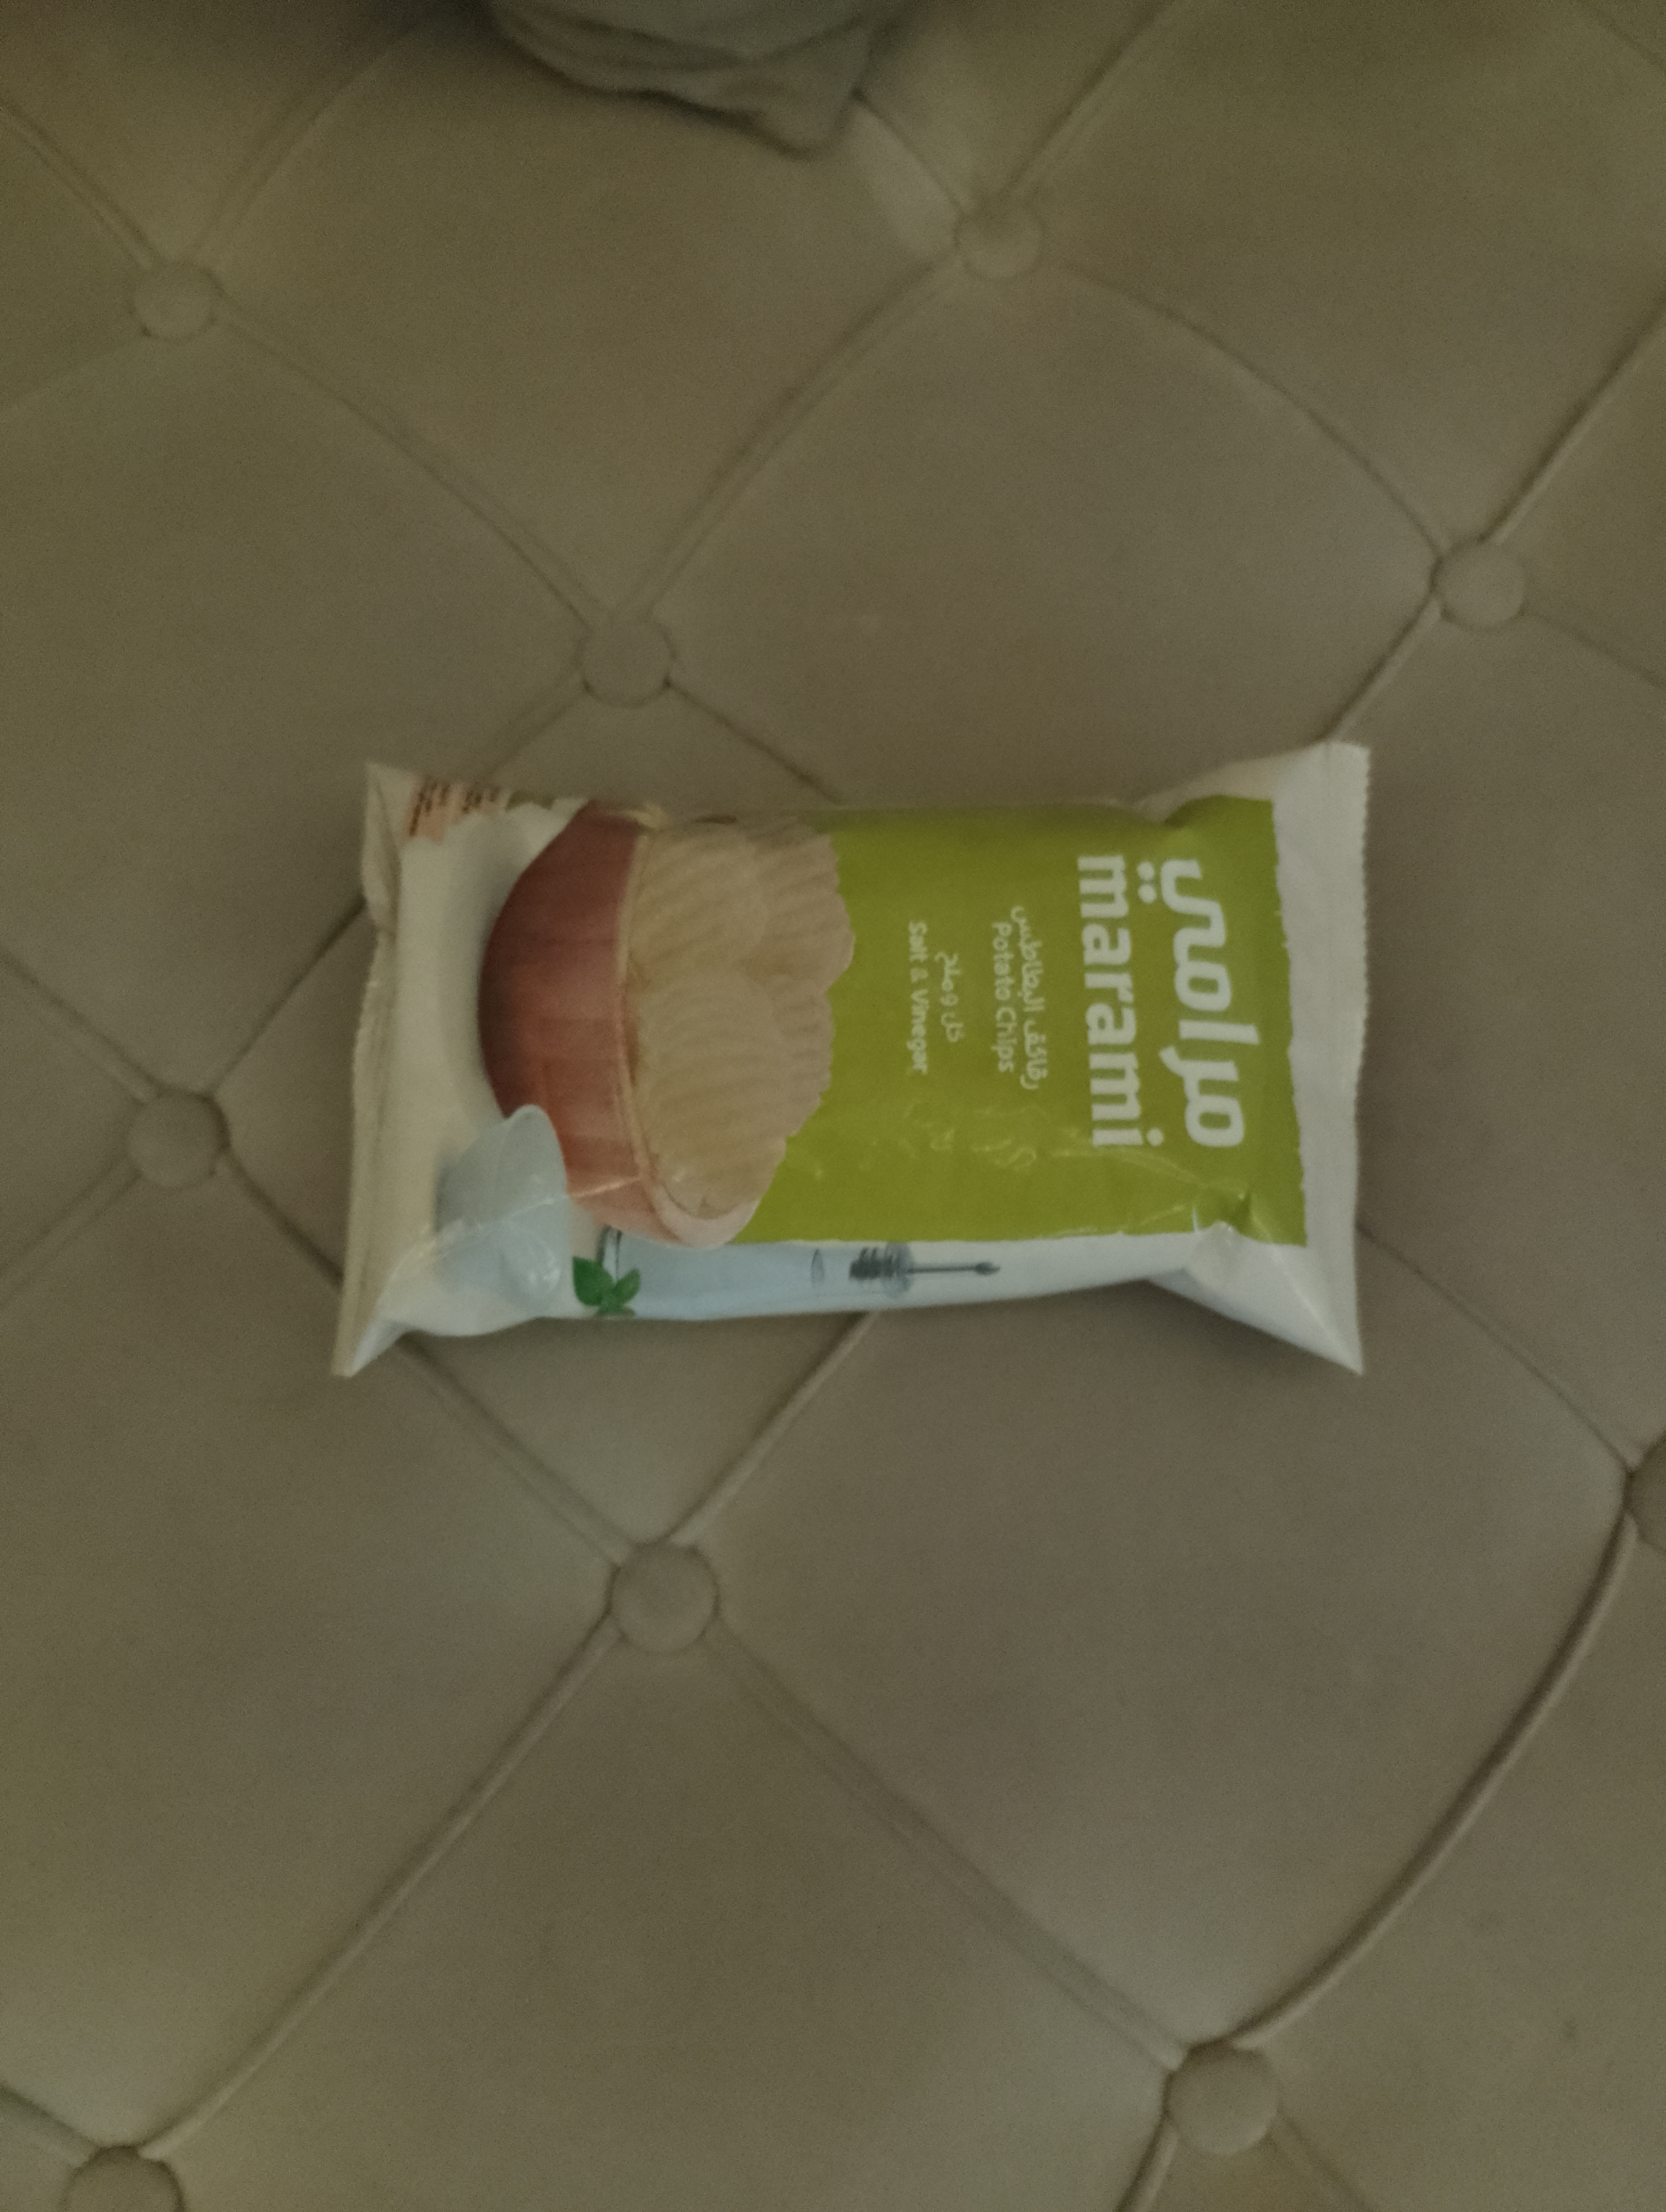marami_salt_&_vinegar: (327, 738, 1372, 1380)
